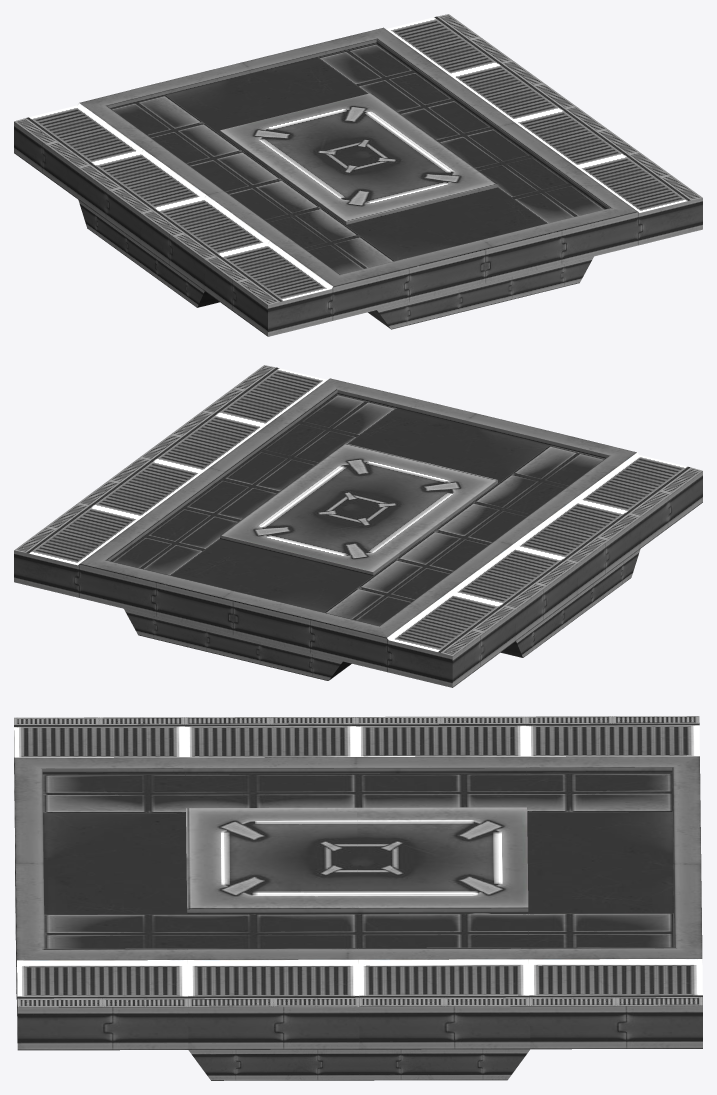
The model's file is ARC1110042.fbx.
The picture shows the model from 3 angles, top to bottom: view 1: azimuth 30°, elevation 25°; view 2: azimuth 150°, elevation 25°; view 3: azimuth 270°, elevation 25°; orthographic projection. The views are drawn at different scales.
Visible parts, largest first — view 1: smARC1110042; view 2: smARC1110042; view 3: smARC1110042.
Boxes of the visible parts, left/top/right/bottom form: smARC1110042: left=14, top=14, right=702, bottom=336; smARC1110042: left=14, top=365, right=702, bottom=687; smARC1110042: left=14, top=716, right=702, bottom=1080.
Bounding box in the file's own units: 531 × 66.69 × 532.
1 material, 1 textured.
